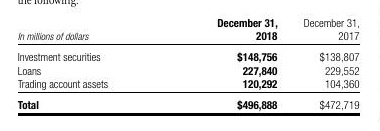table: (0, 0, 380, 131)
